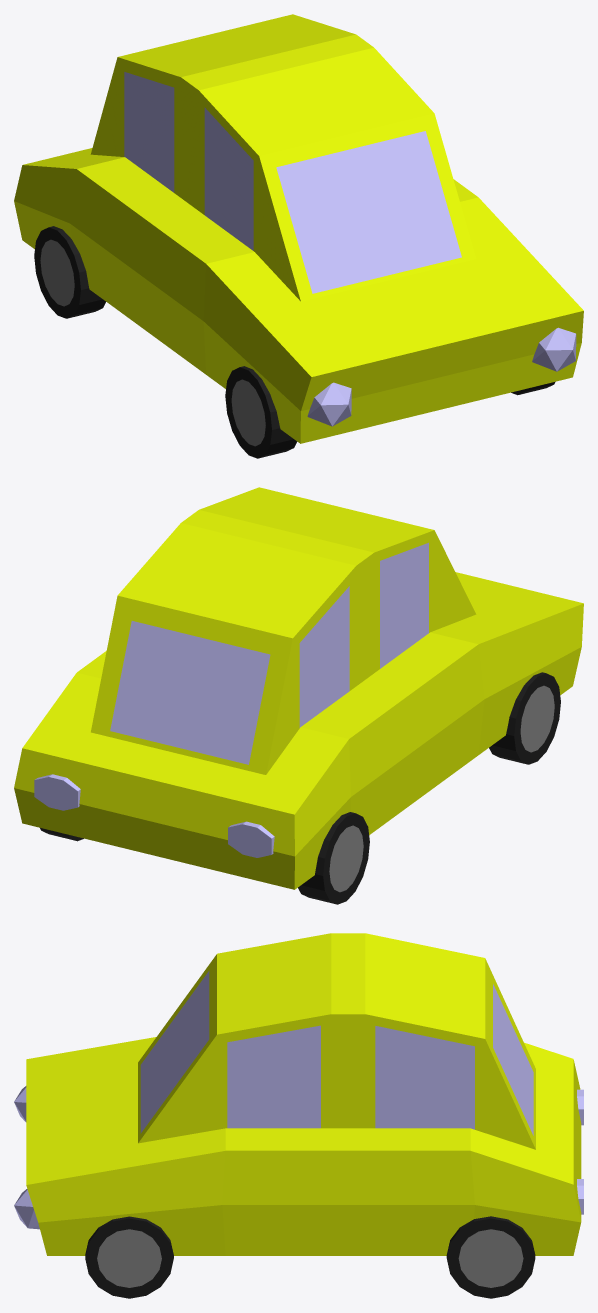
The model's file is Playercar.fbx.
3 views of the same model, one above another, from view 1: azimuth 30°, elevation 25°; view 2: azimuth 150°, elevation 25°; view 3: azimuth 270°, elevation 25° (orthographic). The views are drawn at different scales.
Visible parts, largest first — view 1: Base, Top, Right Back Tire, Right Front Tire, Right Frontlight, Left Frontlight; view 2: Top, Base, Right Back Tire, Right Front Tire, Right Backlight, Left Backlight; view 3: Base, Top, Left Back Tire, Left Front Tire, Left Frontlight.
Boxes of the visible parts, x1,y1,x2,y2 form: Base: (14, 148, 583, 443); Top: (90, 14, 476, 301); Right Back Tire: (34, 226, 105, 318); Right Front Tire: (225, 366, 297, 458); Right Frontlight: (307, 382, 351, 426); Left Frontlight: (532, 327, 576, 371); Top: (91, 487, 476, 774); Base: (14, 572, 583, 889); Right Back Tire: (298, 812, 369, 904); Right Front Tire: (489, 672, 560, 764); Right Backlight: (228, 821, 274, 857); Left Backlight: (34, 774, 80, 810); Base: (26, 1037, 581, 1255); Top: (138, 933, 535, 1149); Left Back Tire: (446, 1216, 535, 1298); Left Front Tire: (85, 1216, 173, 1298); Left Frontlight: (14, 1189, 39, 1229).
Size of the model in its own units: 1.22 by 1.1 by 2.21.
